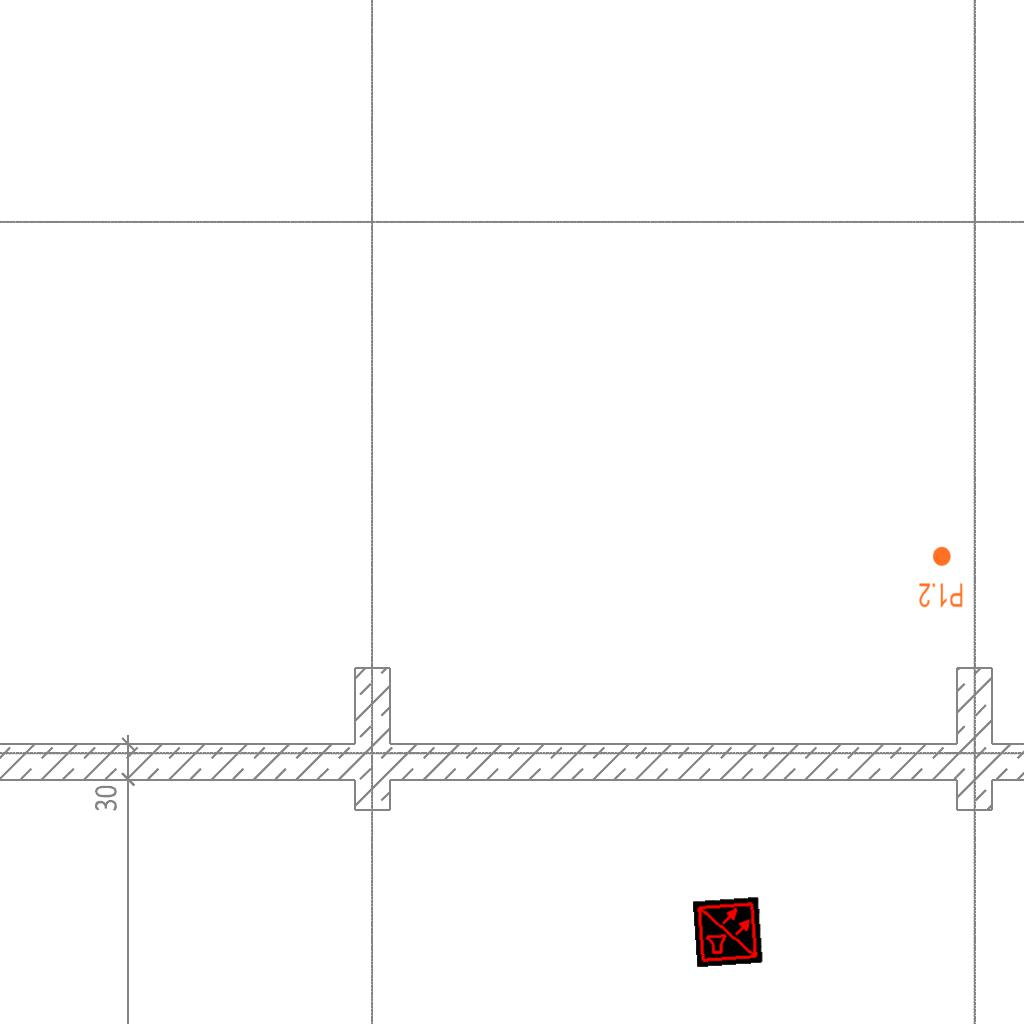Downlight_LED_Einbauleuchten_Flur: (918, 545, 964, 609)
OKW_Multisensormelder_(Kombination_optischer_Rauch-Kahlenmonoxid_Waerme-Melder): (692, 896, 764, 968)
